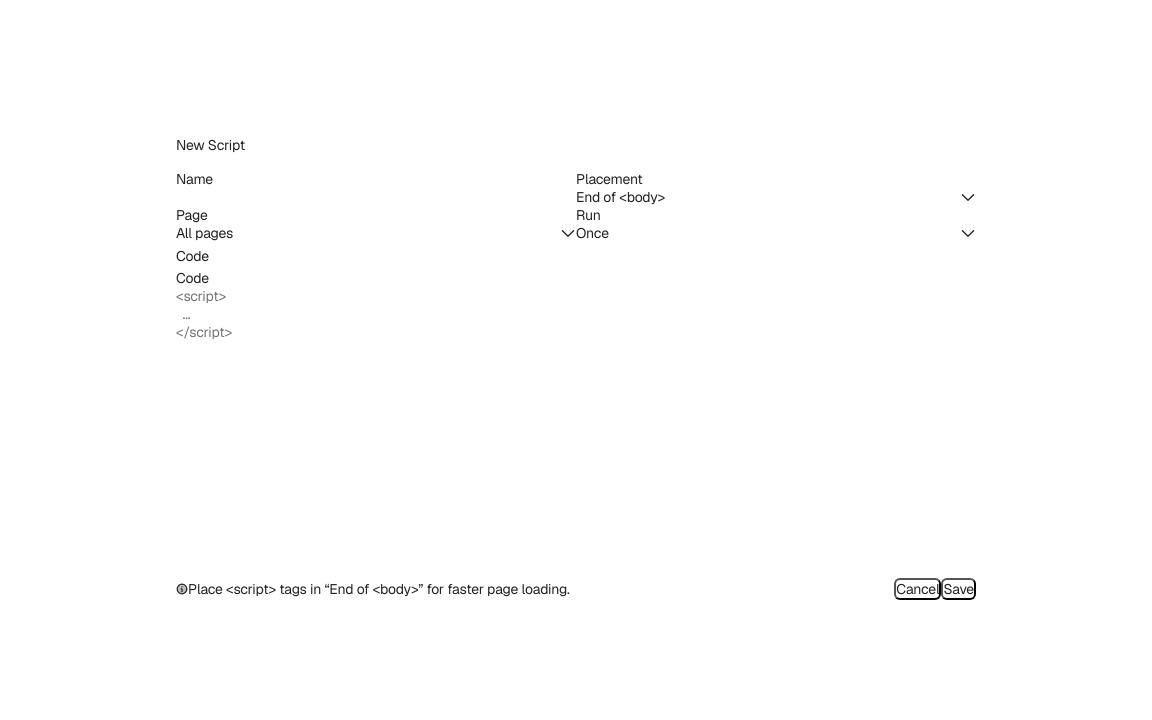
ScriptDialog › refuse d’enregistrer sans nom ni code, avec les messages sous les champs
The image size is (1152, 720).
Click the button "Save".
click(959, 589)  # box left=941, top=578, right=976, bottom=600
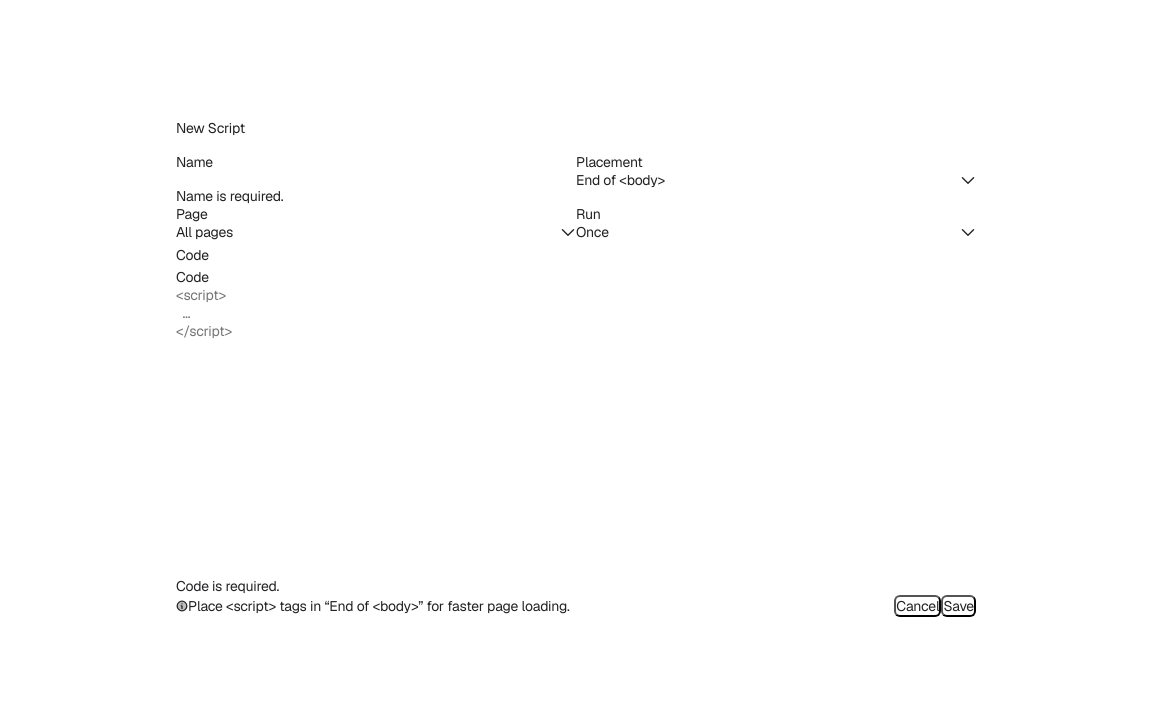
expect the text "Name is required." is shown: met, box left=176, top=187, right=283, bottom=205
expect the text "Code is required." is shown: met, box left=176, top=577, right=279, bottom=595
